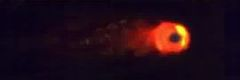keyhole: (167, 31, 184, 45)
